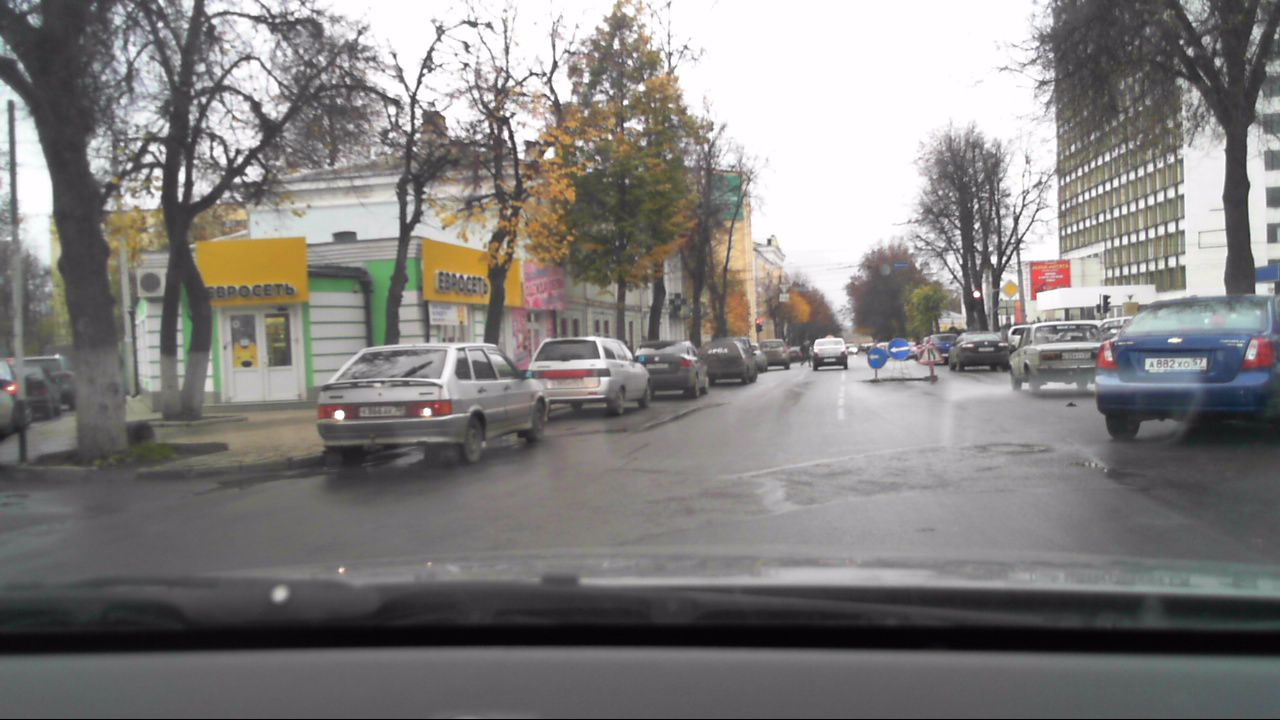Turn Left: (888, 338, 911, 359)
